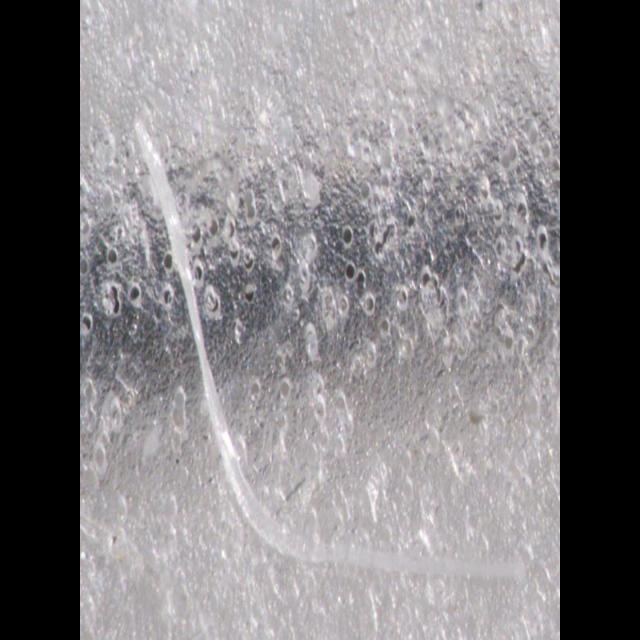Fibre: (123, 109, 533, 599)
